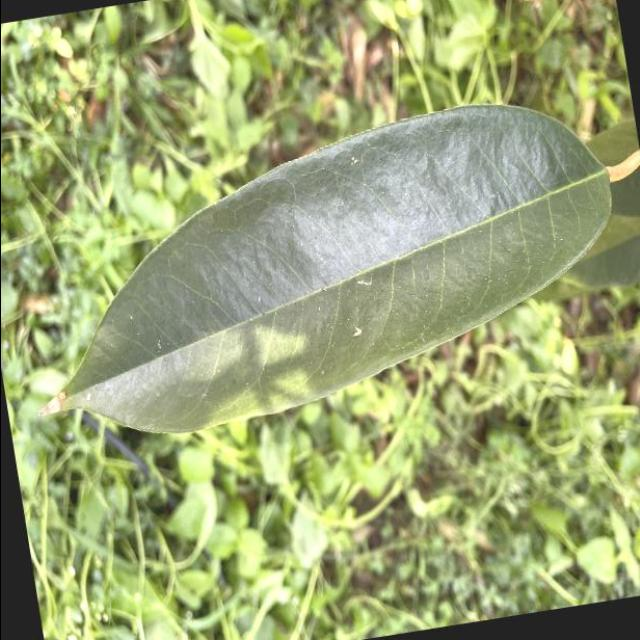No Disease: (2, 77, 640, 467)
